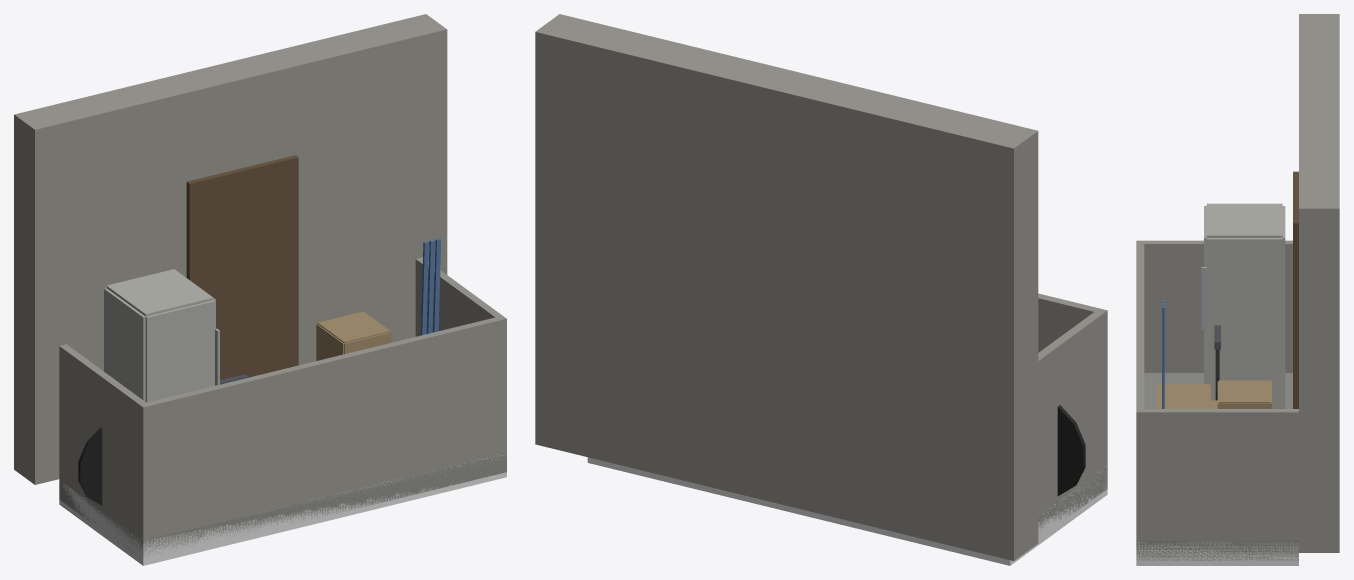
The model's file is balcony_junk.glb.
3 renders of one model, left to right at view 1: azimuth 30°, elevation 25°; view 2: azimuth 150°, elevation 25°; view 3: azimuth 270°, elevation 25°, orthographic. The views are drawn at different scales.
Parts seen in each view (by area): view 1: wall, rail_front, door_closed_panel, old_fridge, rail_side, balcony_junk-col, slab, rail_side.001, cardboard_box.001, wheel; view 2: wall, rail_side, balcony_junk-col, wheel, rail_front, slab; view 3: wall, rail_side.001, old_fridge, rail_side, slab, balcony_junk-col, rail_front, cardboard_box.001, door_closed_panel, cardboard_box.003, cardboard_box.002, fridge_handle (+1 smaller).
Boxes of the visible parts, x1,y1,x2,y2 form: wall: (14, 14, 447, 484); rail_front: (142, 317, 506, 538); door_closed_panel: (186, 155, 298, 380); old_fridge: (104, 269, 215, 402); rail_side: (59, 344, 150, 540); balcony_junk-col: (59, 452, 506, 565); slab: (59, 452, 506, 555); rail_side.001: (415, 257, 506, 453); cardboard_box.001: (316, 311, 391, 360); wheel: (78, 427, 102, 505); wall: (535, 14, 1038, 560); rail_side: (1038, 308, 1107, 515); balcony_junk-col: (587, 457, 1107, 565); wheel: (1057, 405, 1085, 495); rail_front: (1038, 293, 1107, 352); slab: (1038, 465, 1107, 528); wall: (1299, 14, 1339, 552); rail_side.001: (1136, 409, 1298, 541); old_fridge: (1204, 203, 1285, 408); rail_side: (1136, 240, 1292, 372); slab: (1136, 373, 1298, 560); balcony_junk-col: (1136, 541, 1298, 565); rail_front: (1136, 240, 1144, 541); cardboard_box.001: (1217, 380, 1271, 408); door_closed_panel: (1293, 171, 1298, 408); cardboard_box.003: (1156, 384, 1210, 401); cardboard_box.002: (1156, 400, 1217, 408); fridge_handle: (1201, 267, 1206, 329).
Bounding box in the file's own units: 3.4 × 3 × 1.5.
